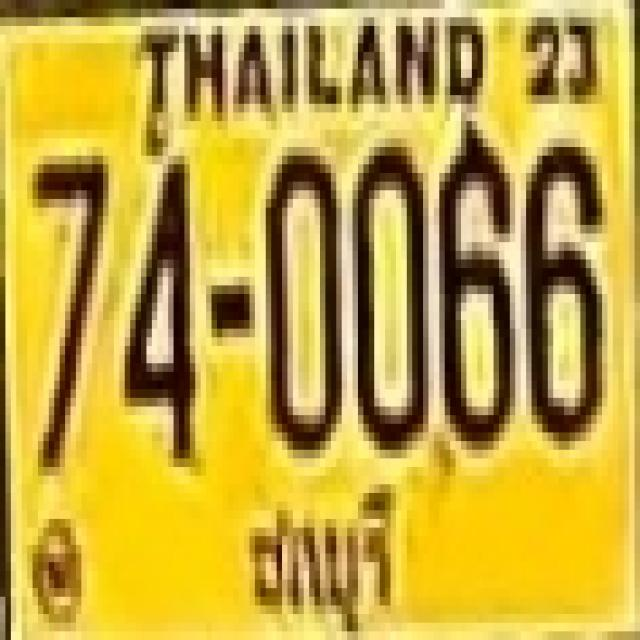0: (260, 147, 336, 450), (350, 143, 426, 445)
4: (119, 151, 190, 454)
6: (434, 130, 510, 441), (520, 134, 596, 437)
7: (27, 151, 103, 463)
CBI: (244, 477, 406, 633)
